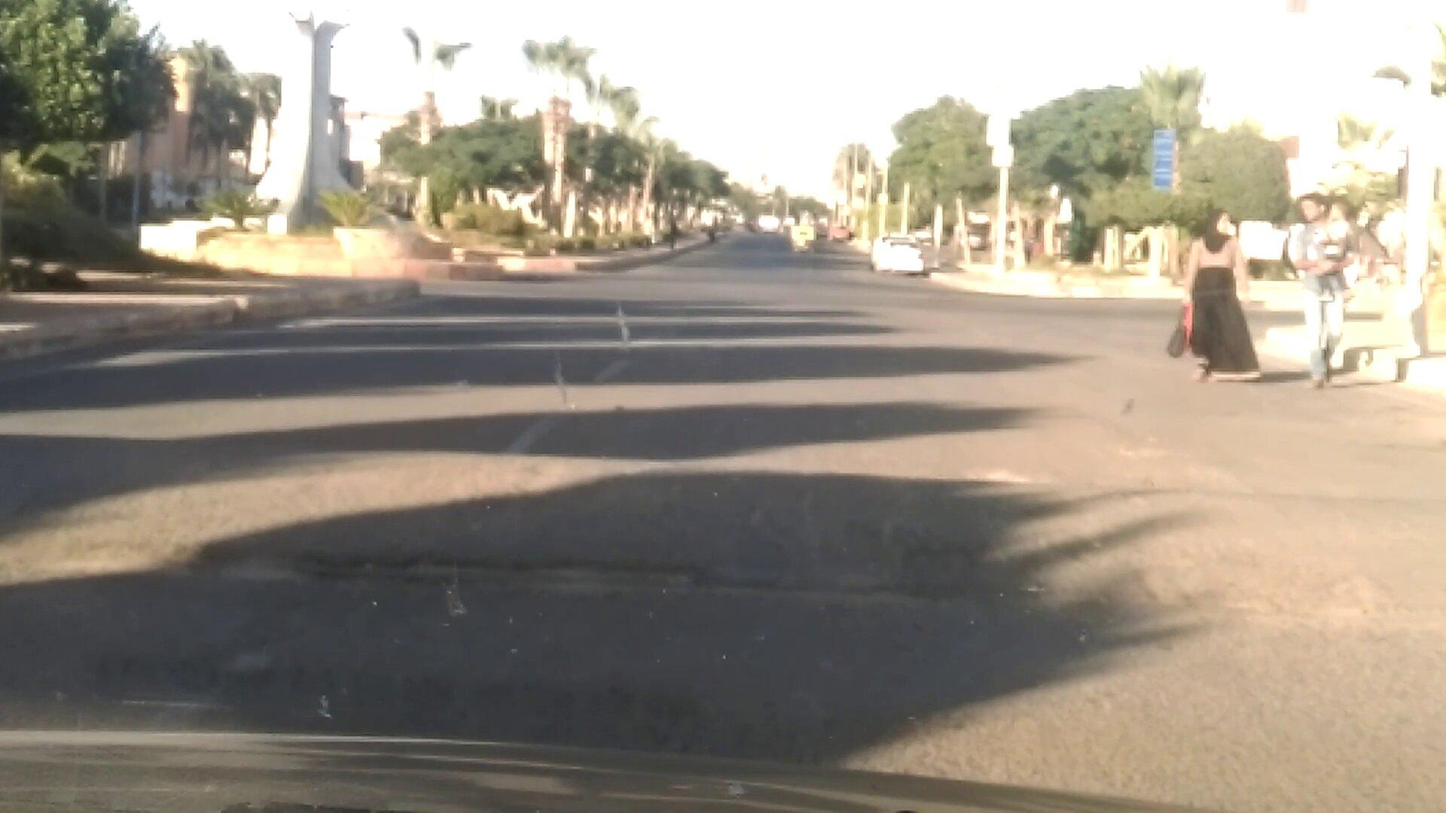Bump: (0, 420, 1446, 621)
Pothole: (243, 531, 947, 615)
